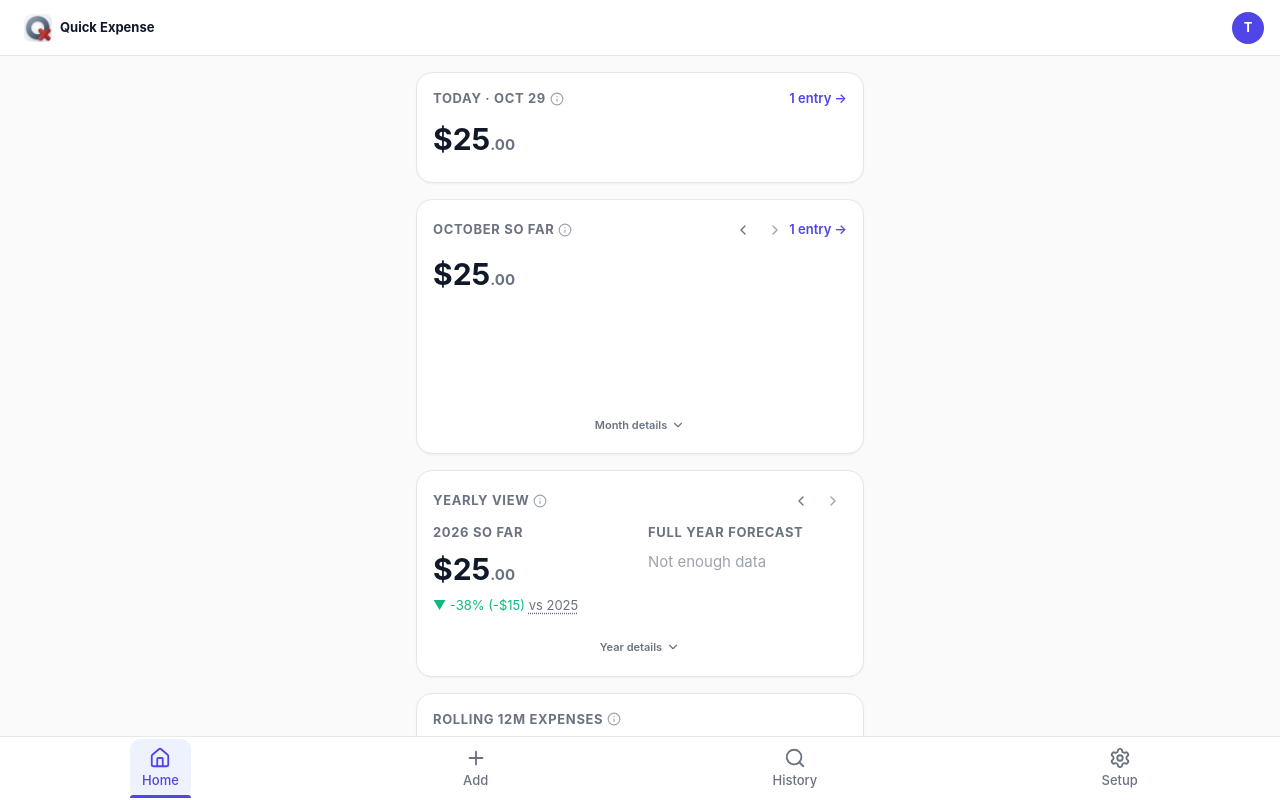
Test: HomePage — year navigation › navigates to the previous year, showing its full total and the past-year forecast placeholder
What coordinates should you click on to do the following:
click the button named "Previous year"
I would click on:
 (801, 501)
Its box is [787, 487, 815, 515].
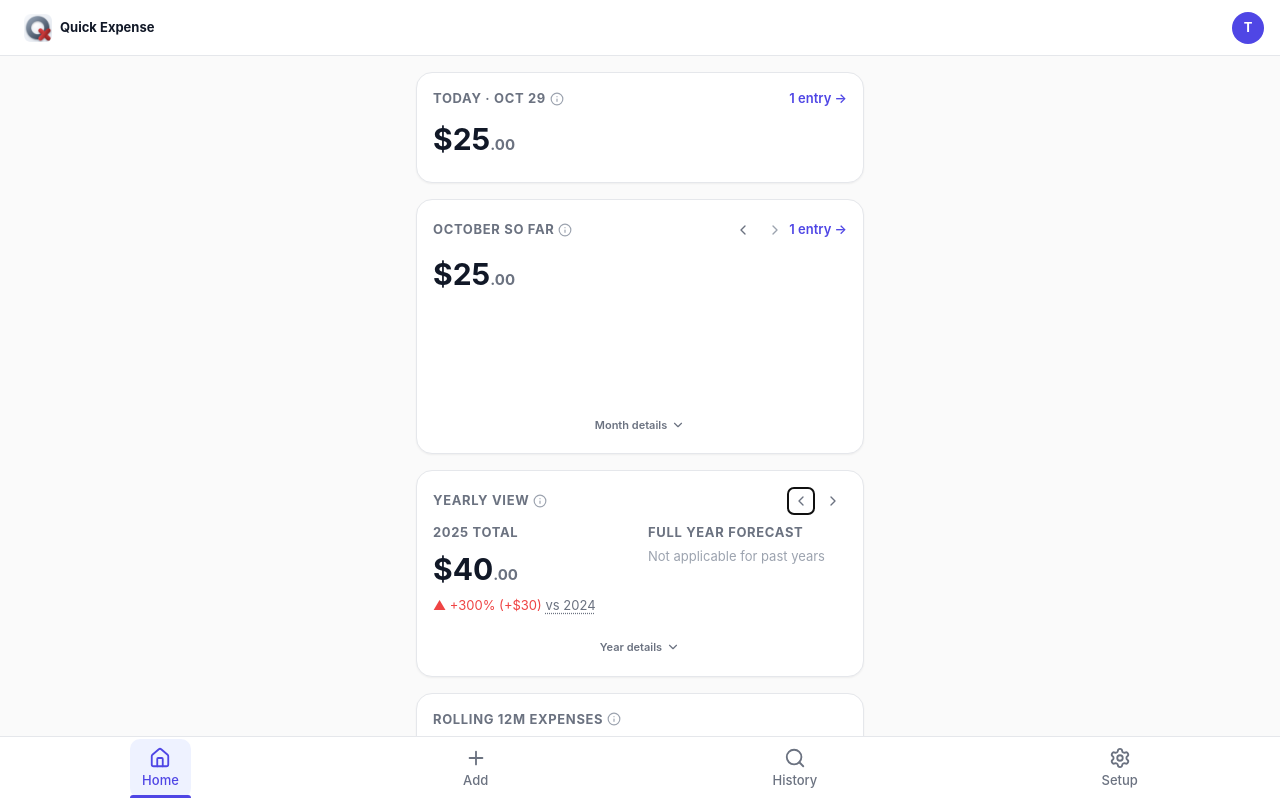
Check: the button named "Next year" is enabled, box [819, 487, 847, 515]
Check: the text "$40" is shown, box [433, 550, 493, 586]
Check: the text "Not applicable for past years" is shown, box [648, 546, 847, 566]
